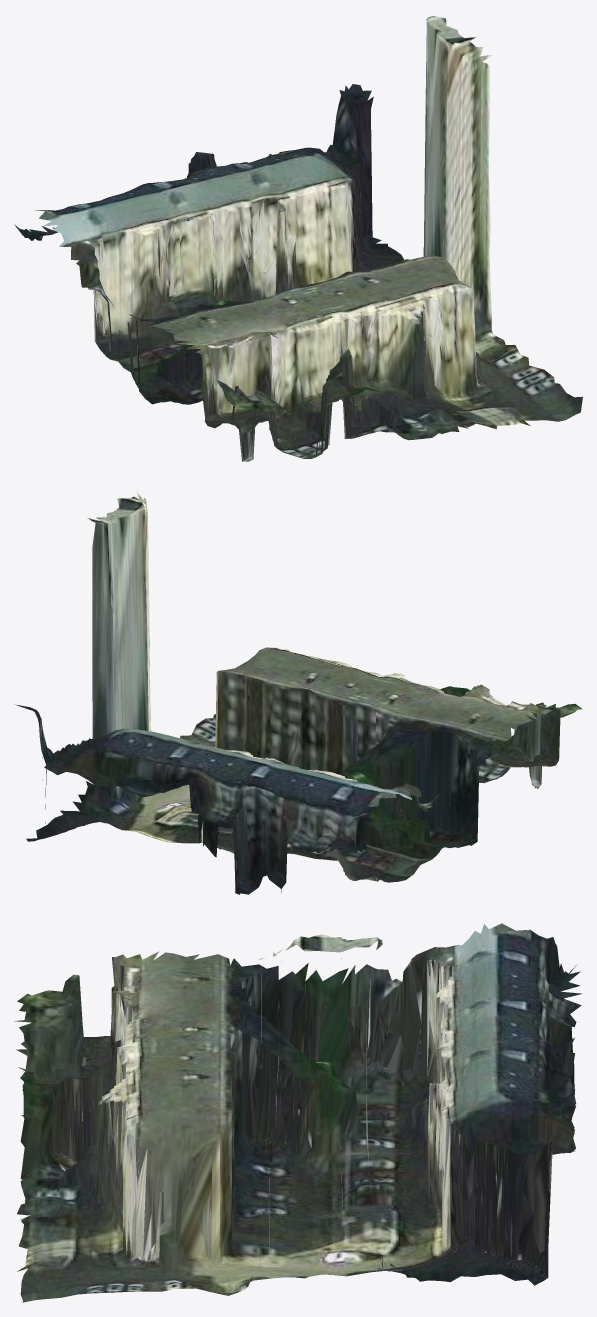
The model's file is Tile_001_000_L14_223.glb.
3 renders of one model, top to bottom at view 1: azimuth 30°, elevation 25°; view 2: azimuth 150°, elevation 25°; view 3: azimuth 270°, elevation 25°, orthographic. The views are drawn at different scales.
Parts seen in each view (by area): view 1: rtc; view 2: rtc; view 3: rtc.
Part boxes in pixels (box(x1,y1,x2,y2)): rtc: box(14, 16, 582, 461); rtc: box(15, 491, 582, 894); rtc: box(14, 923, 582, 1302).
Size of the model in its own units: 64.38 by 50.1 by 70.35.
1 material, 1 textured.
